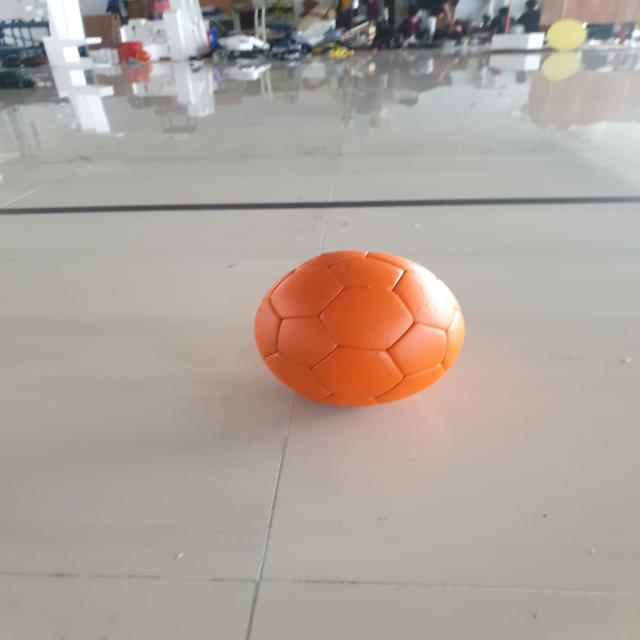bola: (247, 236, 472, 414)
